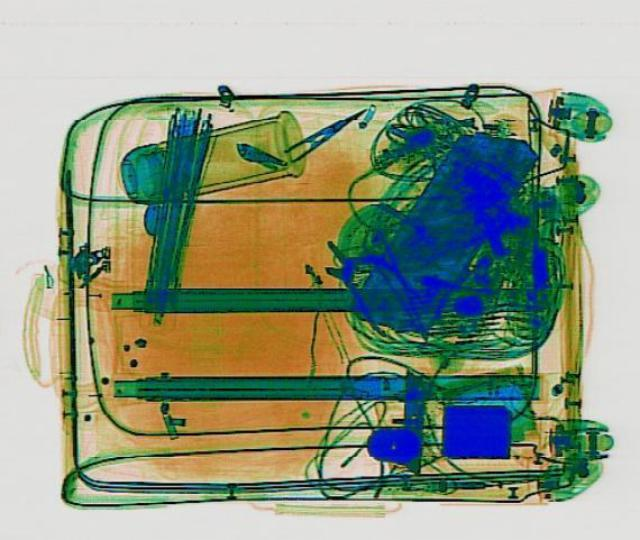Pliers: (290, 227, 434, 335), (276, 100, 372, 161)
